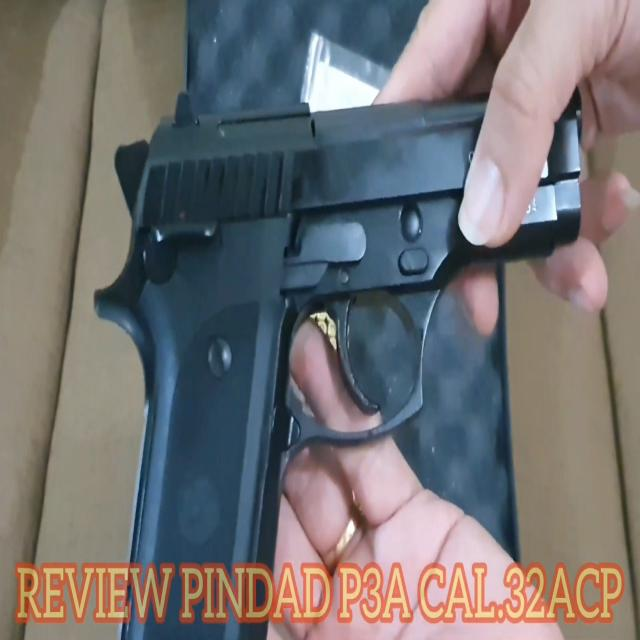handgun: (107, 53, 597, 630)
